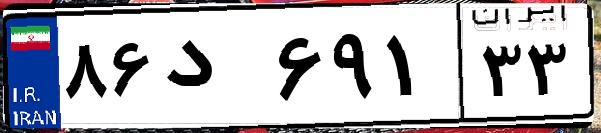1: (385, 28, 445, 110)
3: (475, 38, 525, 113), (525, 38, 570, 115)
6: (270, 28, 330, 110), (110, 28, 158, 98)
8: (57, 26, 110, 100)
9: (330, 28, 385, 110)
د: (158, 20, 270, 120)
